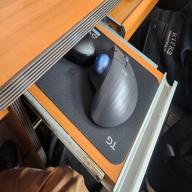mouse: (87, 36, 141, 134), (67, 27, 98, 64)
